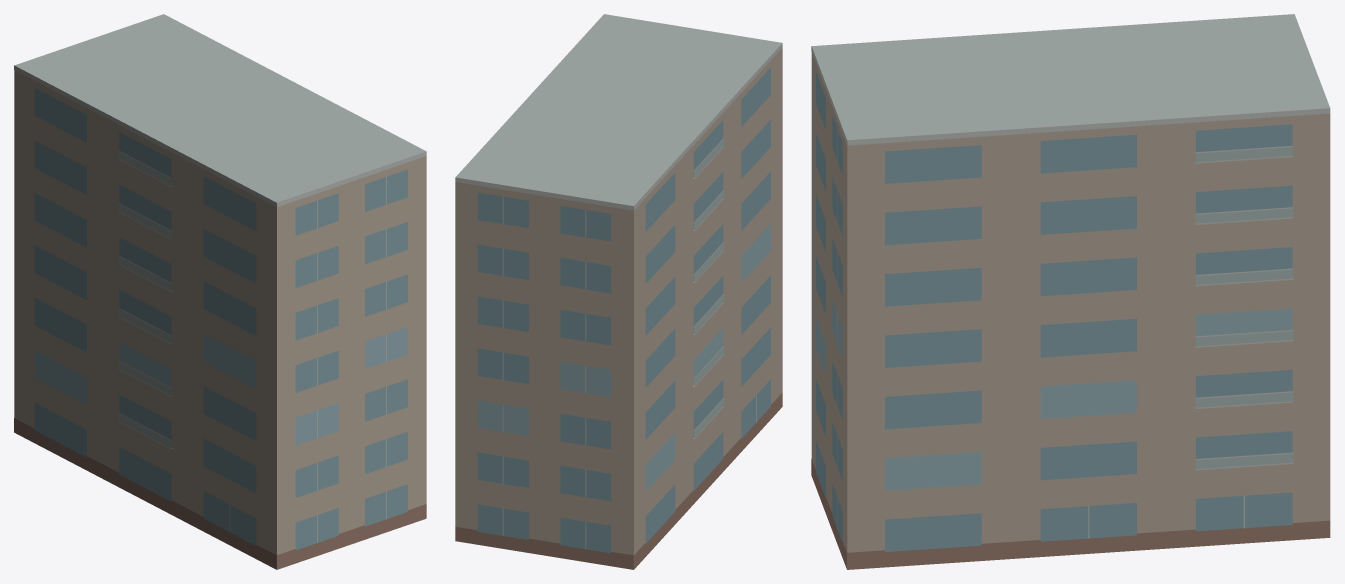
The model's file is survey-upis-32577063.glb.
3 renders of one model, left to right at view 1: azimuth 30°, elevation 25°; view 2: azimuth 150°, elevation 25°; view 3: azimuth 270°, elevation 25°, orthographic. The views are drawn at different scales.
Visible parts, largest first — view 1: survey-upis-32577063.tmp; view 2: survey-upis-32577063.tmp; view 3: survey-upis-32577063.tmp.
Part boxes in pixels (left/top/right/bottom): survey-upis-32577063.tmp: left=14, top=14, right=426, bottom=569; survey-upis-32577063.tmp: left=455, top=14, right=782, bottom=569; survey-upis-32577063.tmp: left=811, top=14, right=1330, bottom=569.
Bounding box in the file's own units: 12.41 × 19.65 × 21.52.
